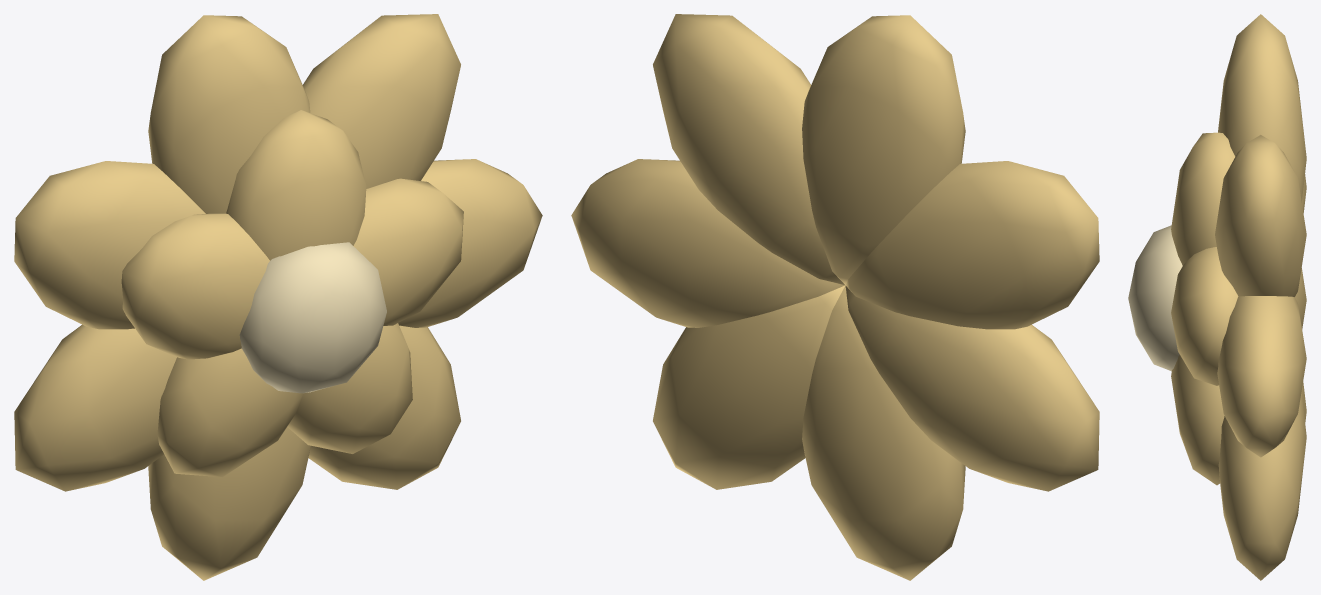
The model's file is gold-blossom.glb.
3 renders of one model, left to right at view 1: azimuth 30°, elevation 25°; view 2: azimuth 150°, elevation 25°; view 3: azimuth 270°, elevation 25°, orthographic. The views are drawn at different scales.
Parts seen in each view (by area): view 1: petals-0, heart-1; view 2: petals-0; view 3: petals-0, heart-1.
Boxes of the visible parts, box(x1,y1,x2,y2) form: petals-0: box(14, 14, 542, 580); heart-1: box(239, 242, 386, 393); petals-0: box(571, 14, 1099, 580); petals-0: box(1171, 14, 1306, 580); heart-1: box(1128, 225, 1182, 371).
Bounding box in the file's own units: 0.5418 × 0.5557 × 0.175.
